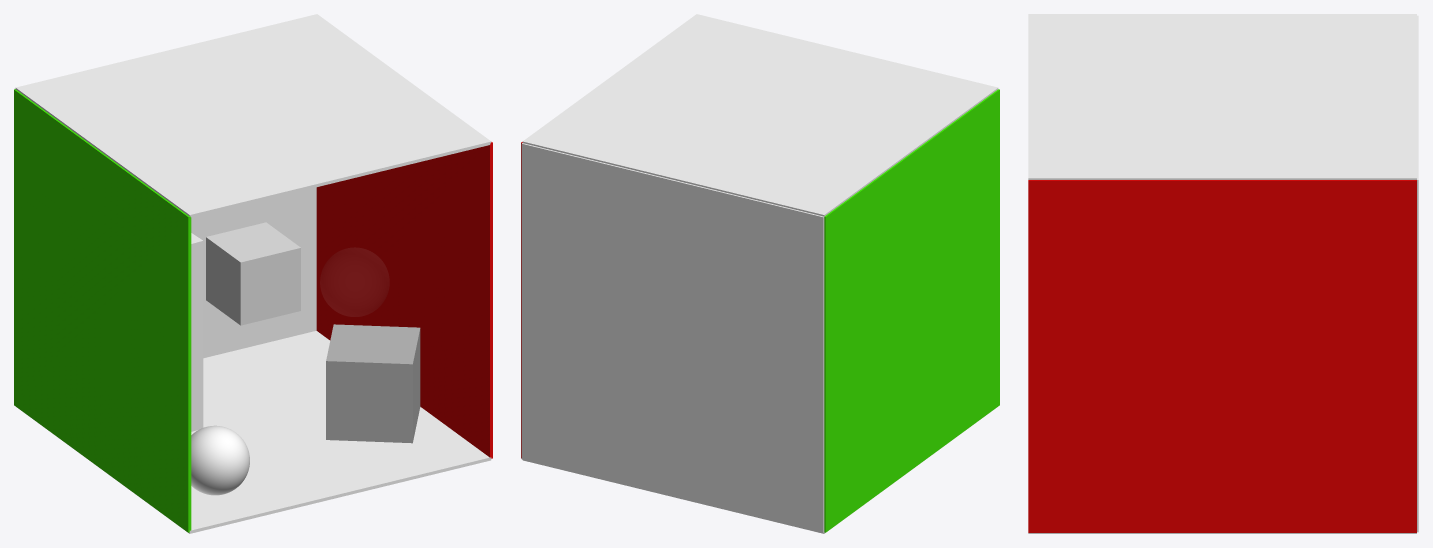
The model's file is cornellBox.glb.
3 renders of one model, left to right at view 1: azimuth 30°, elevation 25°; view 2: azimuth 150°, elevation 25°; view 3: azimuth 270°, elevation 25°, orthographic. The views are drawn at different scales.
Visible parts, largest first — view 1: cube_instance_5, cube_instance_2.001, cube_instance_6, cube_instance_2, cube_instance_14, cube_instance, Cube, sphere_instance_22, cube_instance_16; view 2: cube_instance, cube_instance_5, cube_instance_2.001; view 3: cube_instance_6, cube_instance_2.001, cube_instance.
Part boxes in pixels (bbox=[...]): cube_instance_5: bbox=[14, 89, 191, 532]; cube_instance_2.001: bbox=[15, 14, 491, 217]; cube_instance_6: bbox=[316, 142, 492, 458]; cube_instance_2: bbox=[21, 331, 491, 533]; cube_instance_14: bbox=[326, 324, 420, 443]; cube_instance: bbox=[15, 88, 316, 358]; Cube: bbox=[206, 222, 300, 325]; sphere_instance_22: bbox=[191, 425, 249, 495]; cube_instance_16: bbox=[191, 233, 203, 431]; cube_instance: bbox=[521, 143, 824, 532]; cube_instance_5: bbox=[824, 89, 999, 532]; cube_instance_2.001: bbox=[522, 14, 998, 216]; cube_instance_6: bbox=[1028, 180, 1416, 532]; cube_instance_2.001: bbox=[1028, 14, 1416, 179]; cube_instance: bbox=[1417, 15, 1418, 532].
Size of the model in its own units: 10.1 by 10.1 by 10.05.
